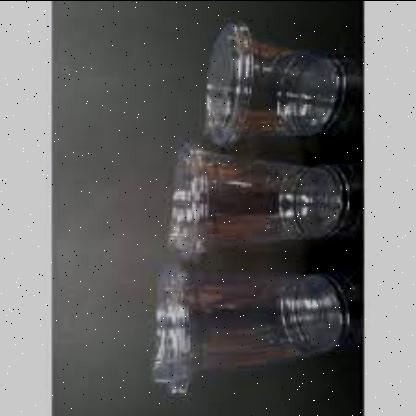Others: (150, 261, 344, 395), (166, 138, 350, 262), (202, 23, 348, 148)
